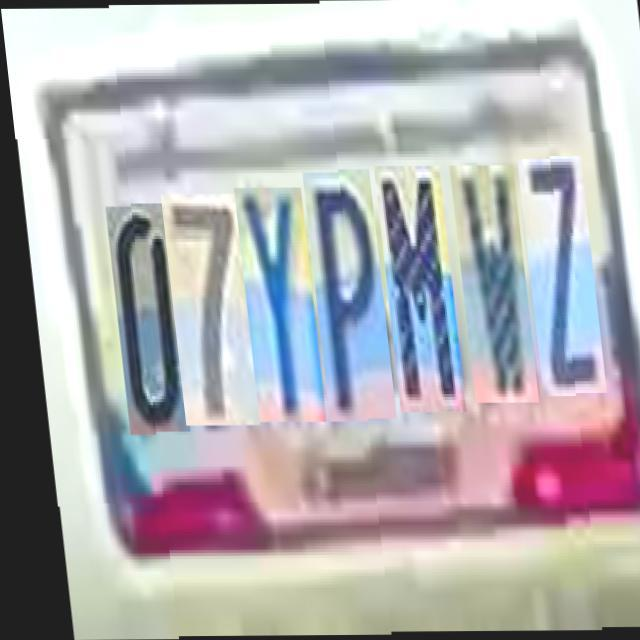0: (100, 201, 180, 429)
7: (156, 192, 250, 422)
M: (370, 166, 457, 412)
P: (298, 170, 387, 419)
W: (446, 166, 530, 404)
Y: (229, 185, 316, 419)
Z: (514, 160, 598, 397)
